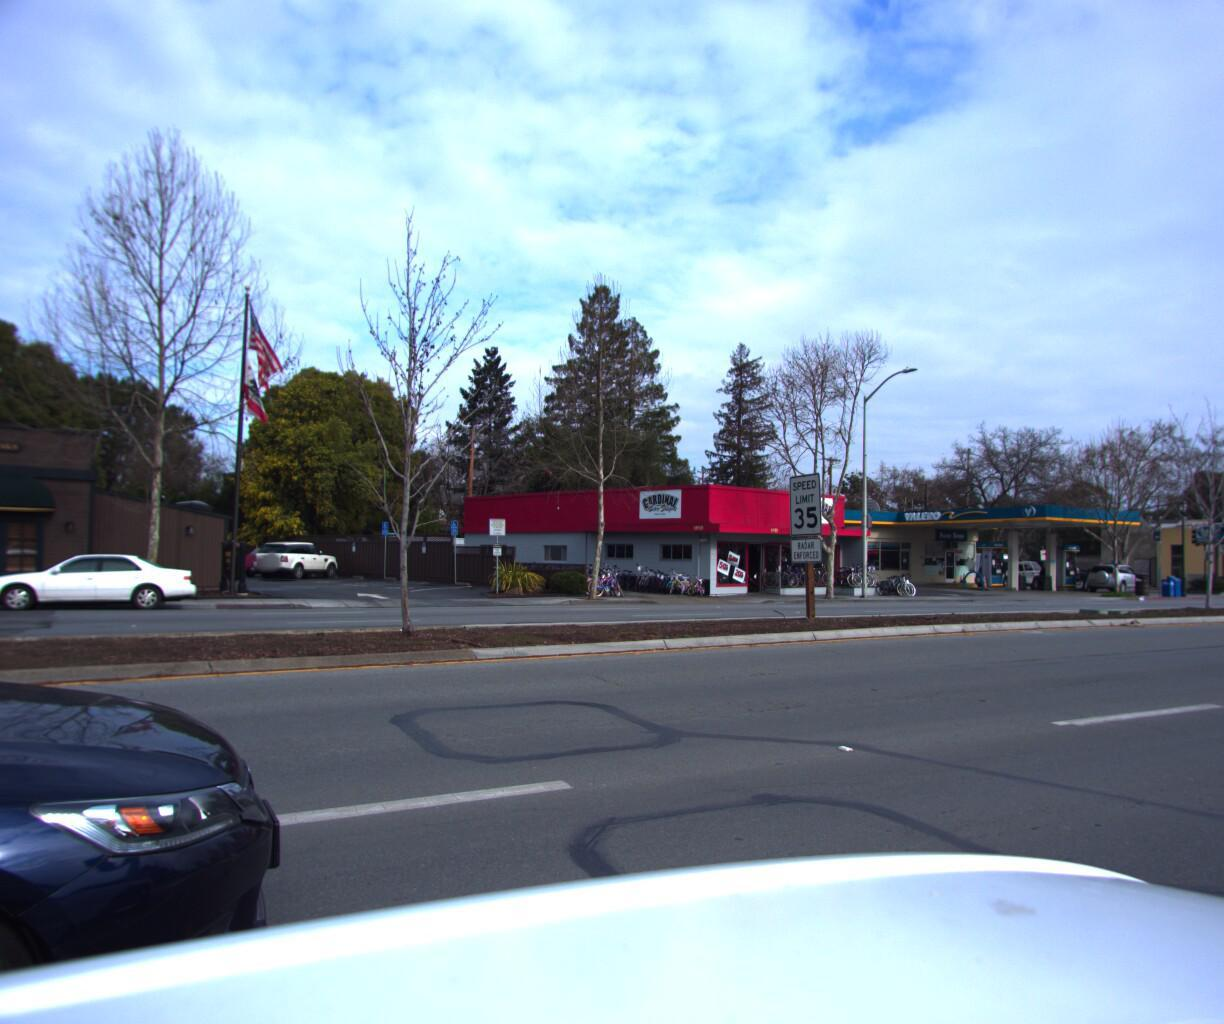bicycle: (877, 566, 922, 592), (873, 567, 918, 592), (590, 561, 625, 591), (596, 561, 631, 591), (632, 559, 663, 590), (626, 559, 657, 590), (601, 559, 632, 589), (644, 566, 675, 590), (638, 566, 669, 590), (665, 567, 693, 591), (659, 567, 687, 591), (653, 567, 681, 590), (676, 571, 701, 591), (685, 573, 708, 591)
car: (0, 548, 203, 614), (965, 553, 1045, 585), (1075, 557, 1145, 589), (1197, 564, 1224, 590)
truck: (927, 547, 1028, 585)
